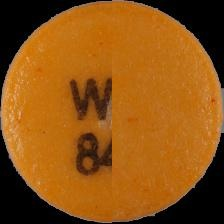10370-190: (0, 0, 224, 224)
